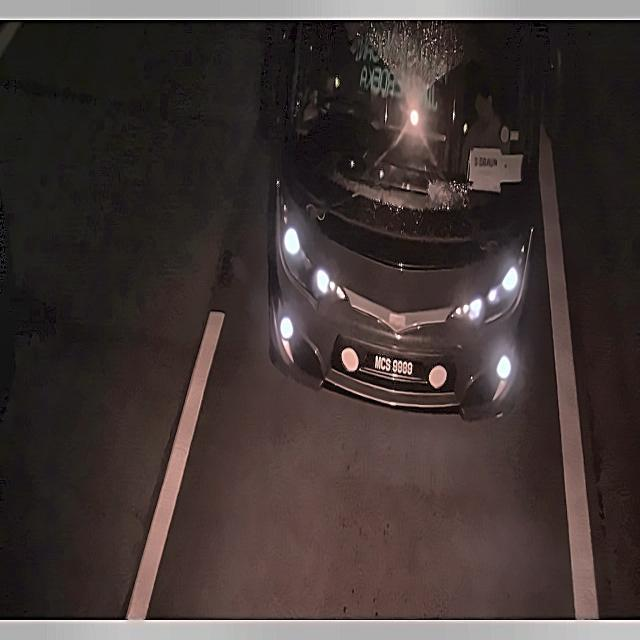car: (360, 338, 430, 392)
